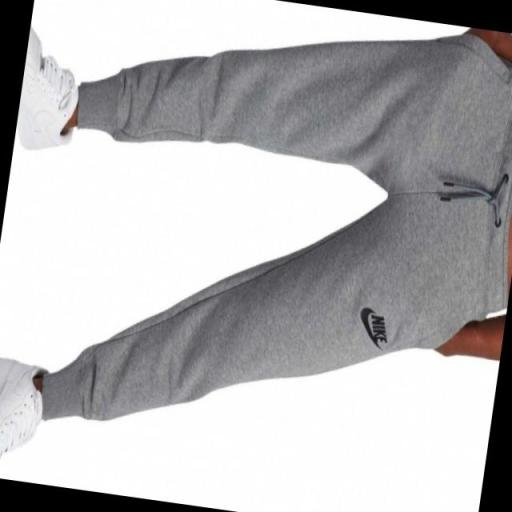Nike: (355, 302, 377, 348), (368, 314, 391, 345)
